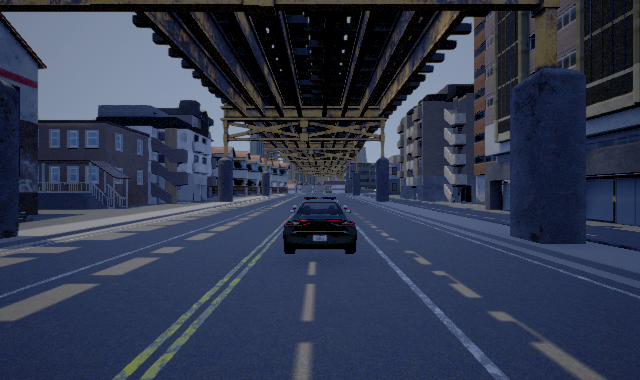vehicle: (283, 197, 357, 254)
